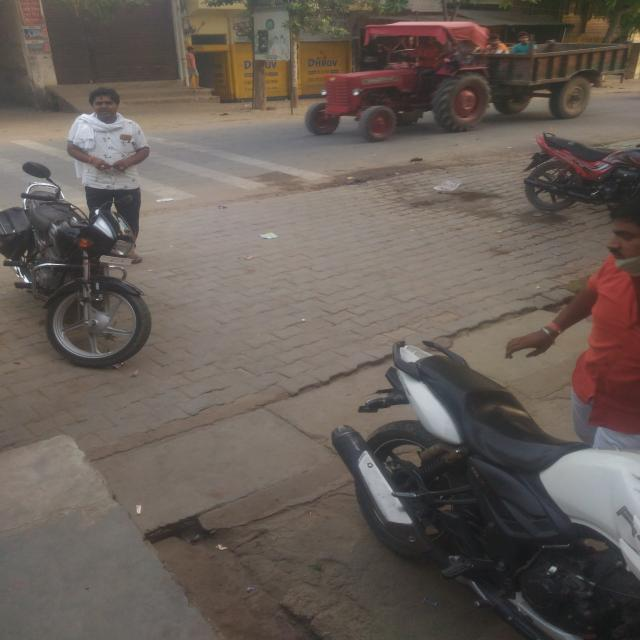Bike: (275, 309, 640, 637), (0, 170, 148, 372), (517, 137, 625, 208)
Tractor: (272, 5, 634, 125)
